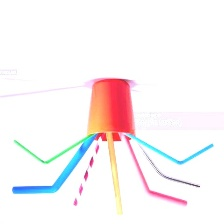drinking_straw: (119, 131, 218, 169), (9, 129, 100, 168), (103, 129, 126, 217)
glass: (83, 75, 137, 145)
